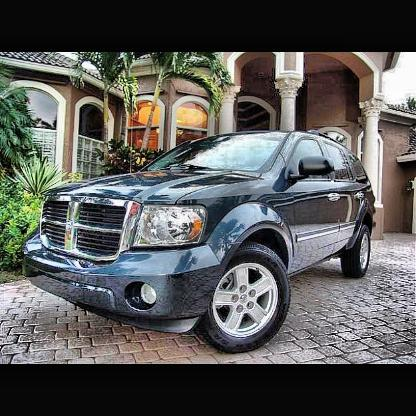Dodge Durango SUV 2007: (21, 130, 377, 354)
